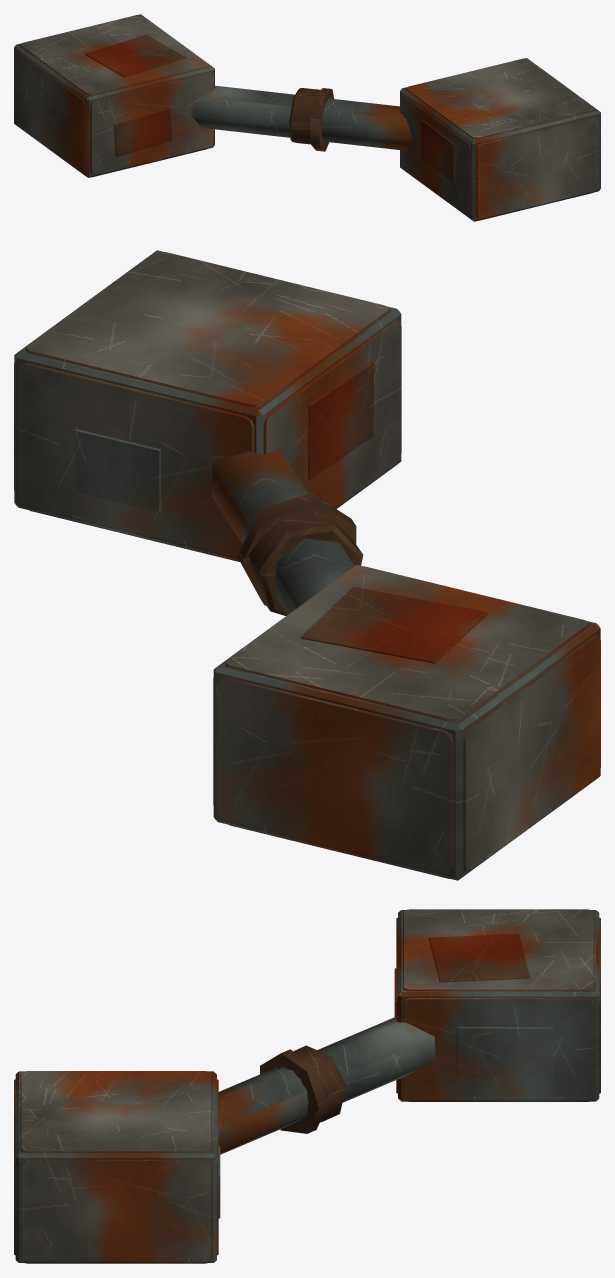
Rendered from R4C_ROD_DIAG_2D_SHORT.glb.
3 views of the same model, one above another, from view 1: azimuth 30°, elevation 25°; view 2: azimuth 150°, elevation 25°; view 3: azimuth 270°, elevation 25° (orthographic). The views are drawn at different scales.
Visible parts, largest first — view 1: R4C_ROD_DIAG_2D_SHORT; view 2: R4C_ROD_DIAG_2D_SHORT; view 3: R4C_ROD_DIAG_2D_SHORT.
Boxes of the visible parts, x1,y1,x2,y2 form: R4C_ROD_DIAG_2D_SHORT: (14, 14, 600, 221); R4C_ROD_DIAG_2D_SHORT: (14, 250, 600, 880); R4C_ROD_DIAG_2D_SHORT: (14, 909, 600, 1263).
Size of the model in its own units: 1.07 by 0.232 by 1.07.
Materials: 4 (4 with a texture image).
